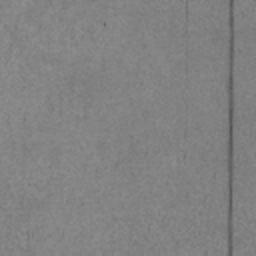Scratches: (226, 0, 235, 256)
